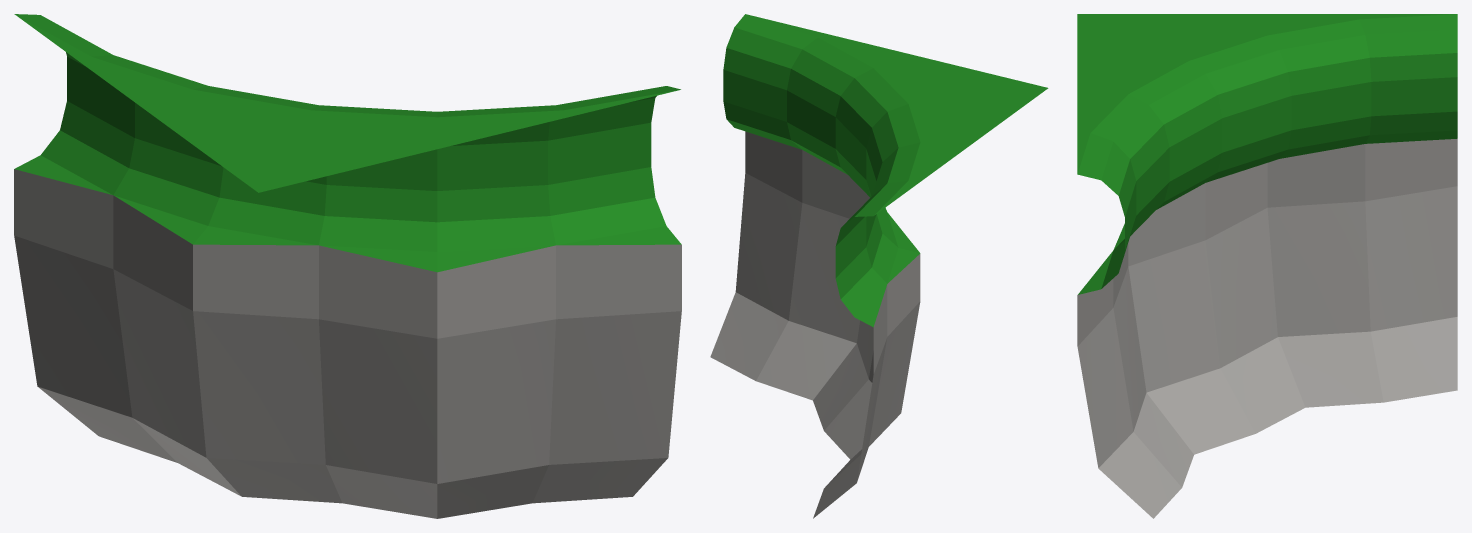
Rendered from Terrain_Cliff_2_Tall_Corner_Inner_2x2.obj.
The picture shows the model from 3 angles, left to right: view 1: azimuth 30°, elevation 25°; view 2: azimuth 150°, elevation 25°; view 3: azimuth 270°, elevation 25°; orthographic projection. The views are drawn at different scales.
Visible parts, largest first — view 1: Rock, Grass; view 2: Grass, Rock; view 3: Rock, Grass.
Boxes of the visible parts, box(x1,y1,x2,y2) form: Rock: box(14, 169, 681, 518); Grass: box(14, 14, 681, 272); Grass: box(723, 14, 1048, 327); Rock: box(710, 131, 920, 518); Rock: box(1077, 138, 1457, 518); Grass: box(1077, 14, 1457, 294).
Bounding box in the file's own units: 2 × 2 × 2.
